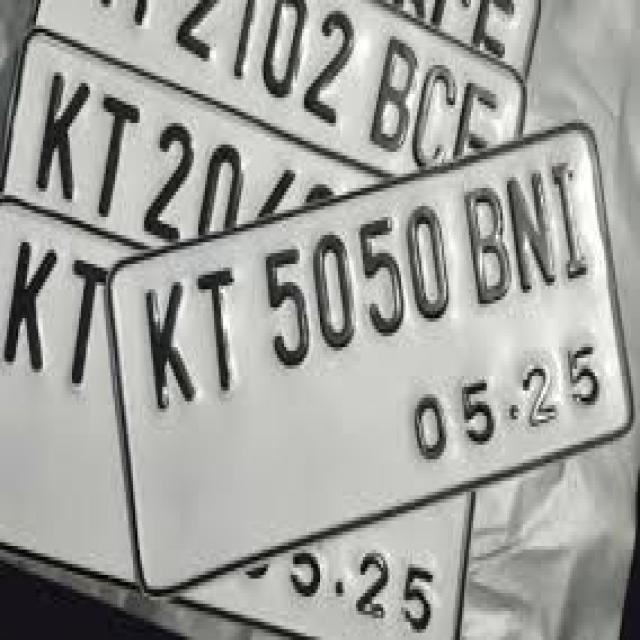license-plat: (102, 118, 640, 607)
